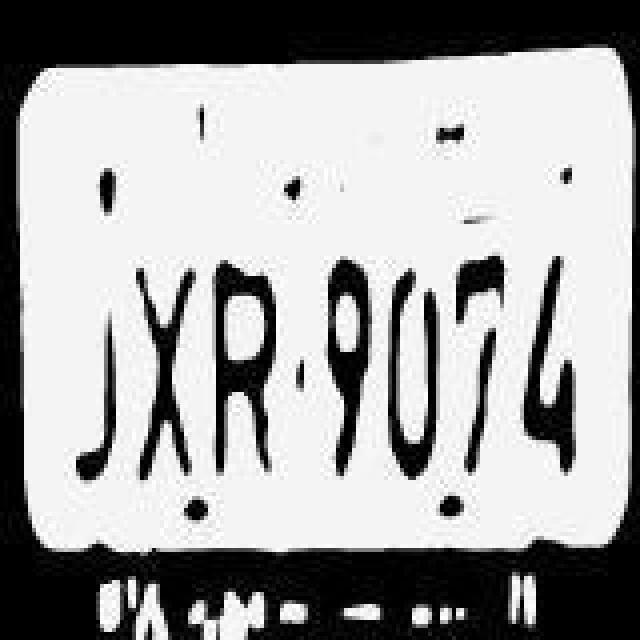4: (520, 252, 592, 484)
7: (446, 246, 514, 490)
9: (318, 246, 386, 482)
J: (66, 272, 126, 512)
O: (390, 244, 450, 468)
R: (206, 250, 290, 494)
X: (130, 256, 206, 480)
